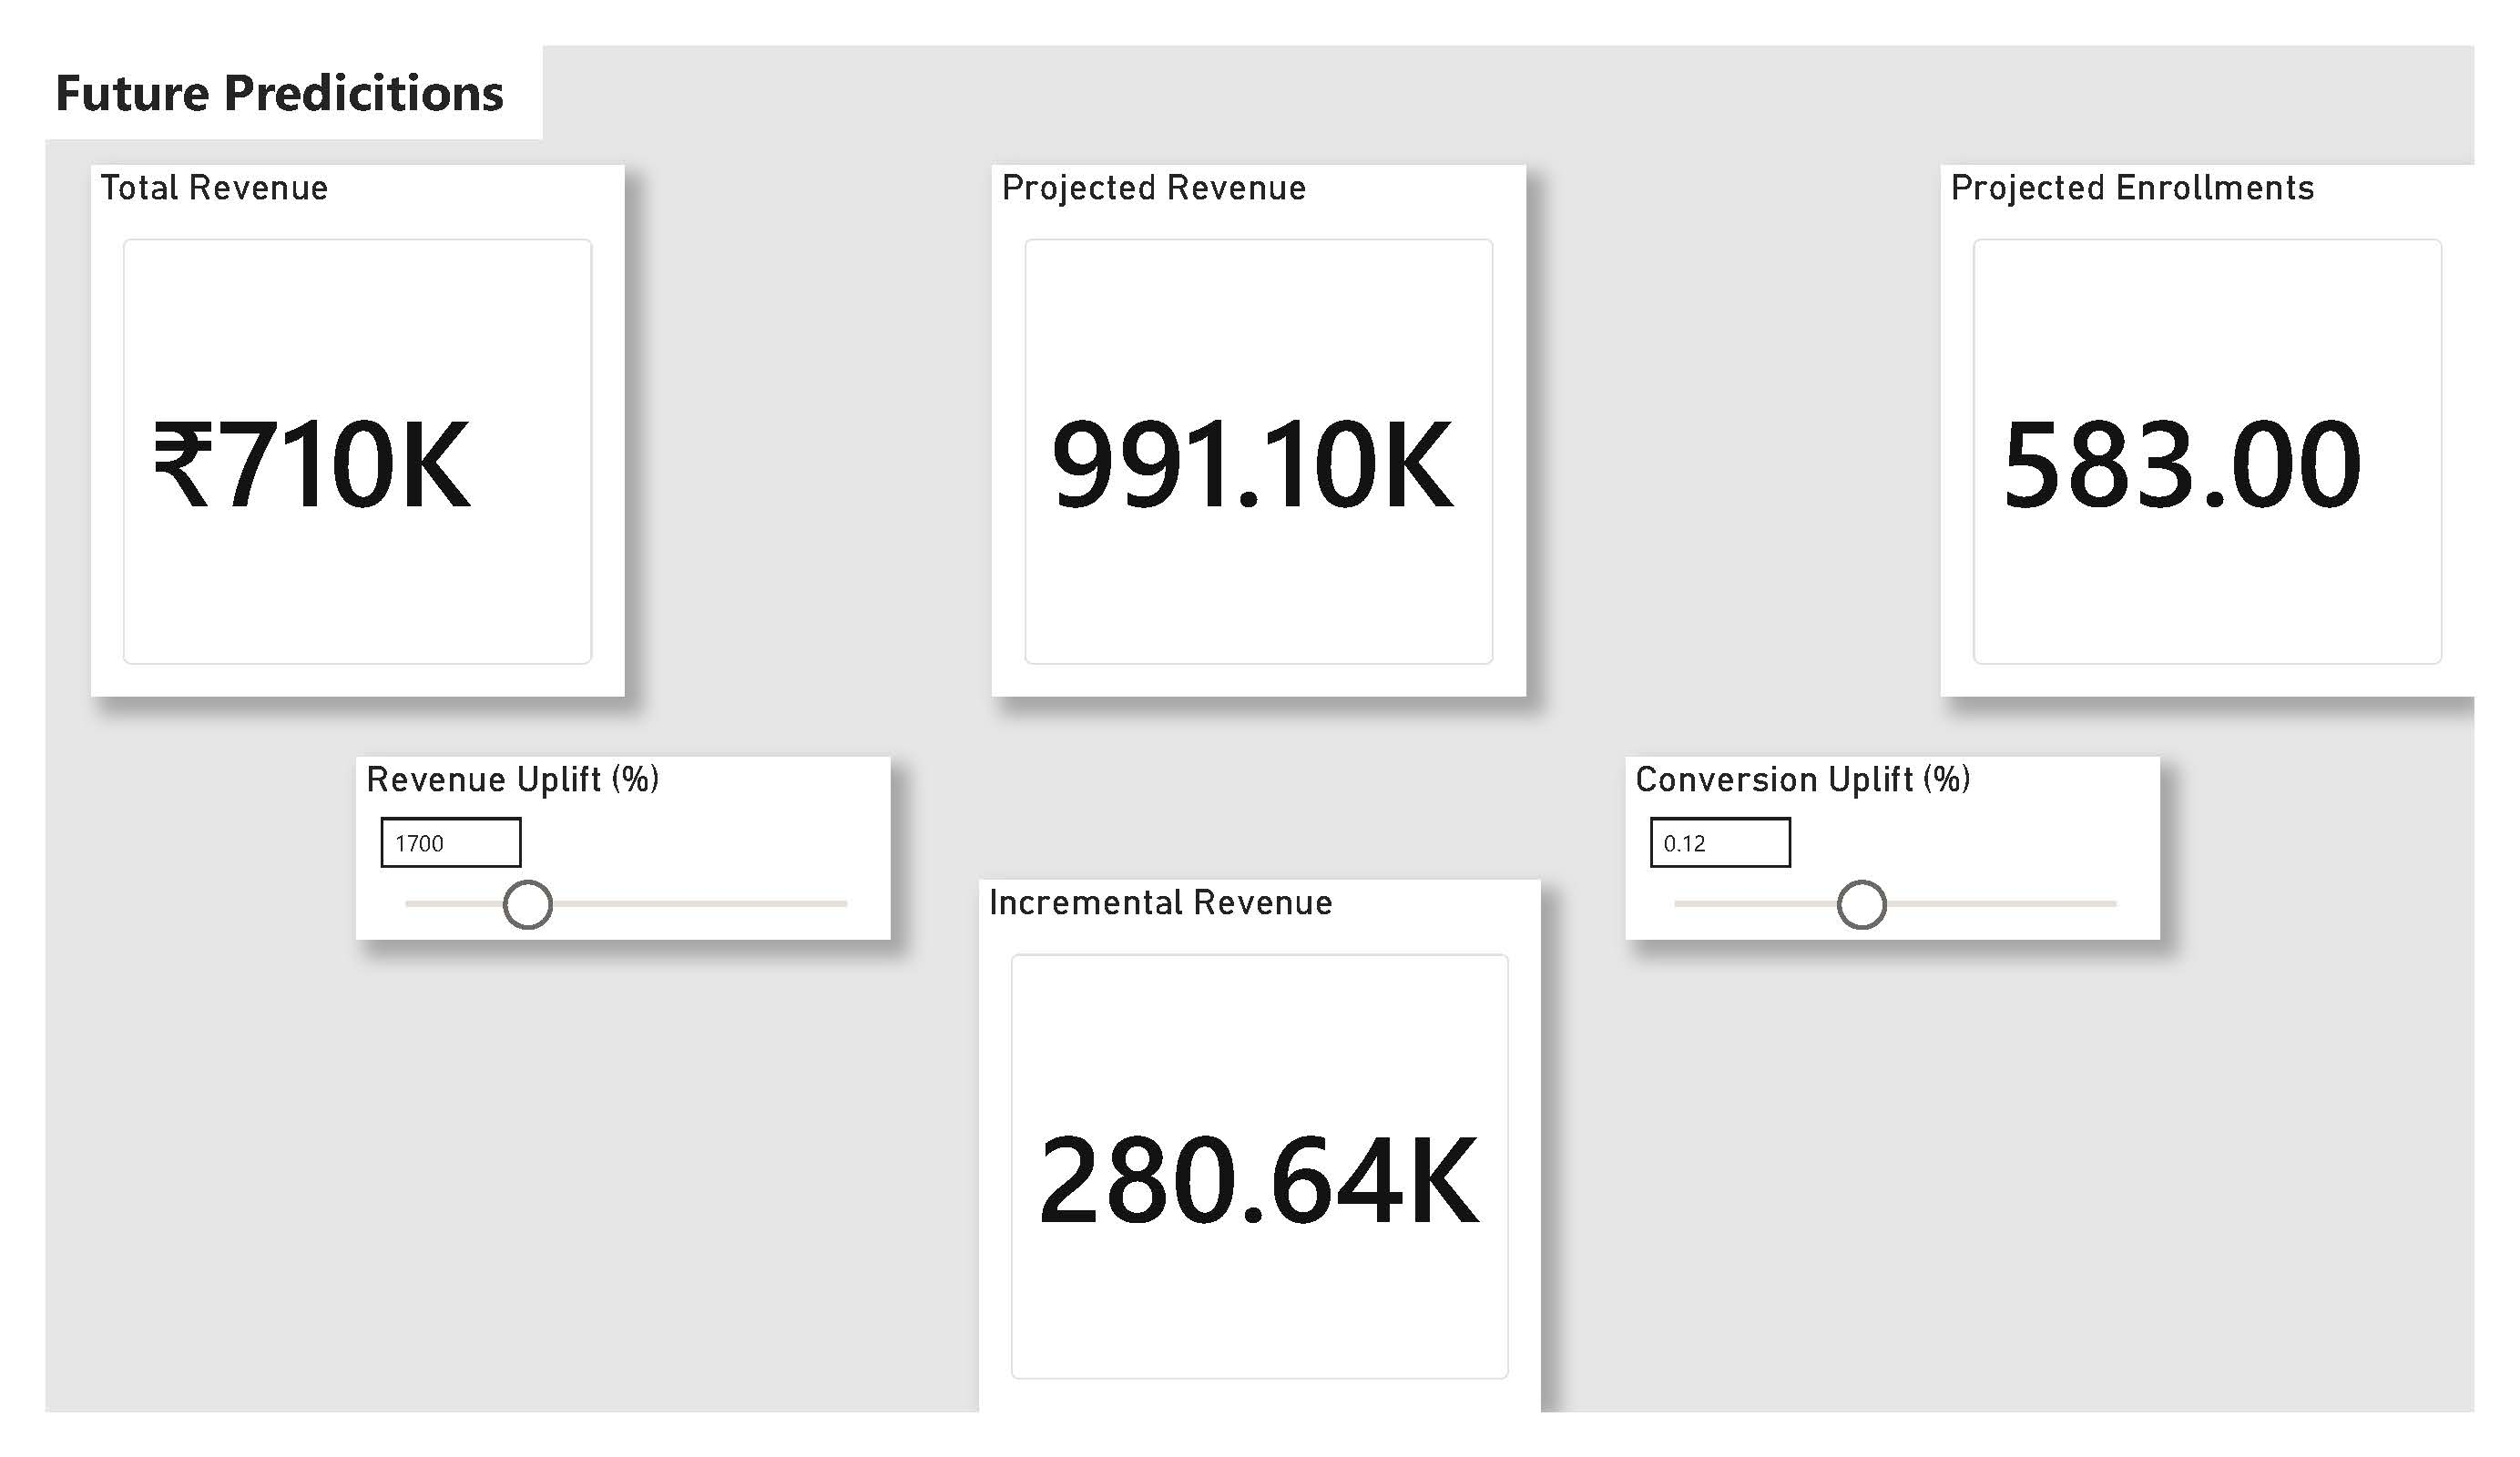

The page's visual inventory and layout, read from the dashboard file:
{"tool":"powerbi","page":{"name":"Future Predictions","canvas":[1280,720],"ordinal":5},"visuals":[{"type":"cardVisual","title":"Projected Enrollments","fields":{"Data":["edtech leads.Projected Enrollments"]},"box":[998.9,63.2,281.1,280.1],"z":0},{"type":"cardVisual","title":"Incremental Revenue","fields":{"Data":["edtech leads.Incremental Revenue"]},"box":[492.2,439.6,295.7,280.1],"z":1000},{"type":"cardVisual","title":"Projected Revenue","fields":{"Data":["edtech leads.Projected Revenue"]},"box":[499,63.2,281.1,280.1],"z":2000},{"type":"slicer","title":"Revenue Uplift (%)","fields":{"Values":["Avg Revenue Uplift.Avg Revenue Uplift"]},"box":[164.4,375.4,281.1,95.3],"z":3000},{"type":"slicer","title":"Conversion Uplift (%)","fields":{"Values":["Conversion Rate Uplift.Conversion Rate Uplift"]},"box":[832.6,375.4,281.1,95.3],"z":4000},{"type":"cardVisual","title":"Total Revenue","fields":{"Data":["edtech payments.Total Revenue"]},"box":[24.3,63.2,281.1,280.1],"z":5000},{"type":"textbox","box":[0,0,261.6,48.6],"z":6000}]}

Visuals, with their boxes on the page's 1280x720 design canvas (x1, y1, x2, y2). These are canvas units, not pixel positions in the 2520x1457 screenshot, which may show the page scaled, cropped or inside an application window:
"Projected Enrollments" cardVisual: 999 63 1280 343
"Incremental Revenue" cardVisual: 492 440 788 720
"Projected Revenue" cardVisual: 499 63 780 343
"Revenue Uplift (%)" slicer: 164 375 446 471
"Conversion Uplift (%)" slicer: 833 375 1114 471
"Total Revenue" cardVisual: 24 63 305 343
textbox: 0 0 262 49
